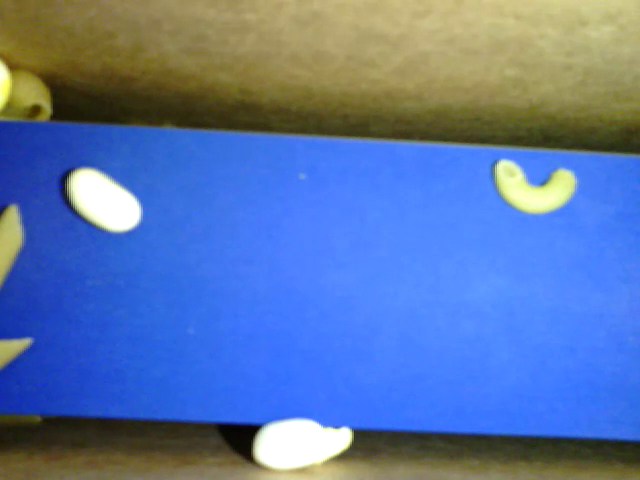elbow: (496, 157, 579, 216)
penne: (1, 201, 28, 290), (1, 337, 35, 369)
shell: (1, 70, 55, 125)
